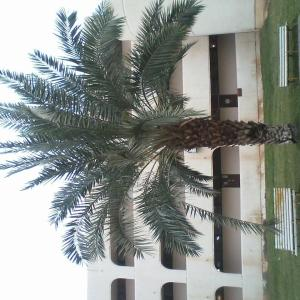palm tree: (0, 0, 297, 268)
